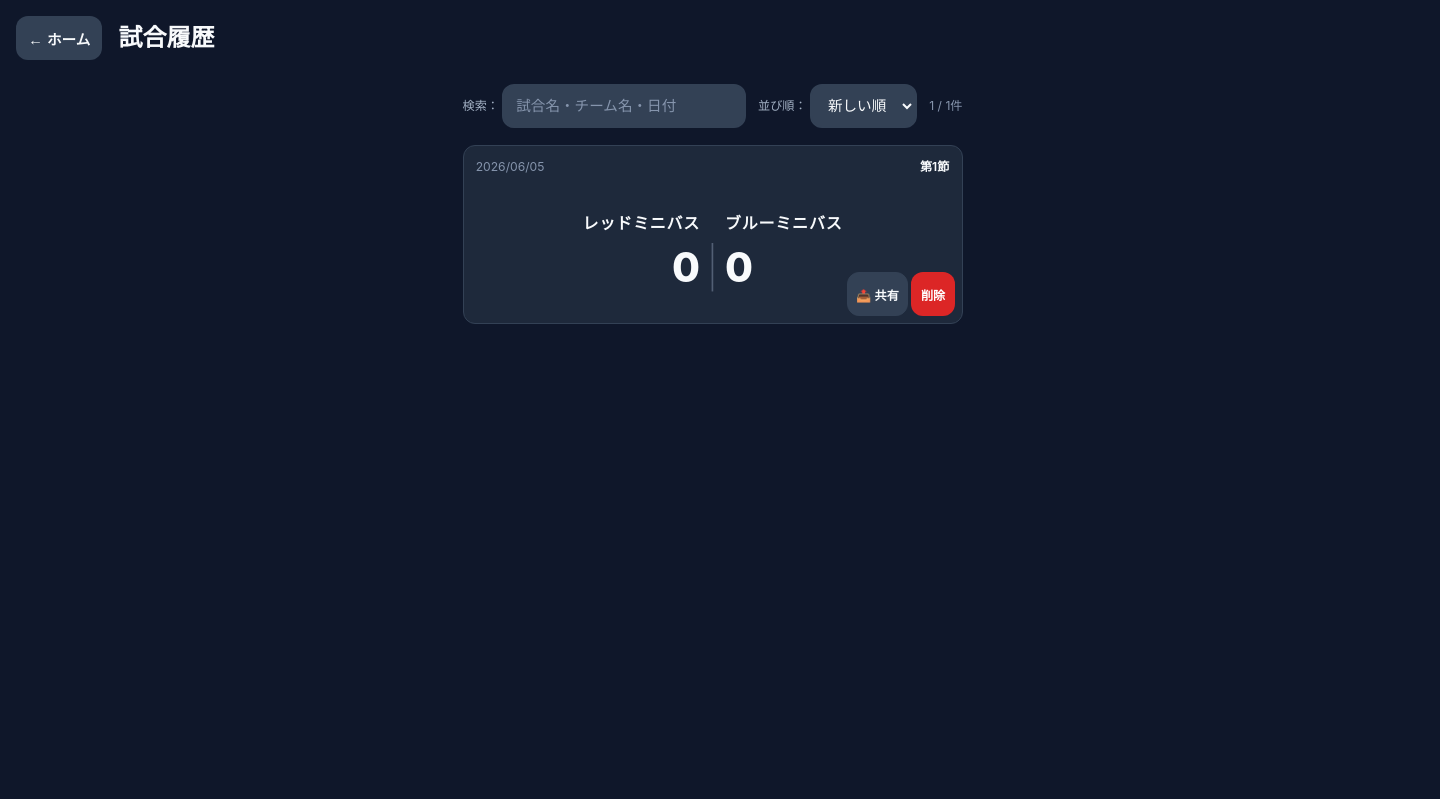
Test: 履歴のスコアシートタブ › 様式を閉じたあとの戻るは、詳細ごと閉じて一覧へ
What coordinates should you click on to do the following:
click the button "2026/06/05 第1節 レッドミニバス 0 | ブルーミニバス 0"
I would click on:
 (510, 166)
Its box is [476, 158, 949, 311].
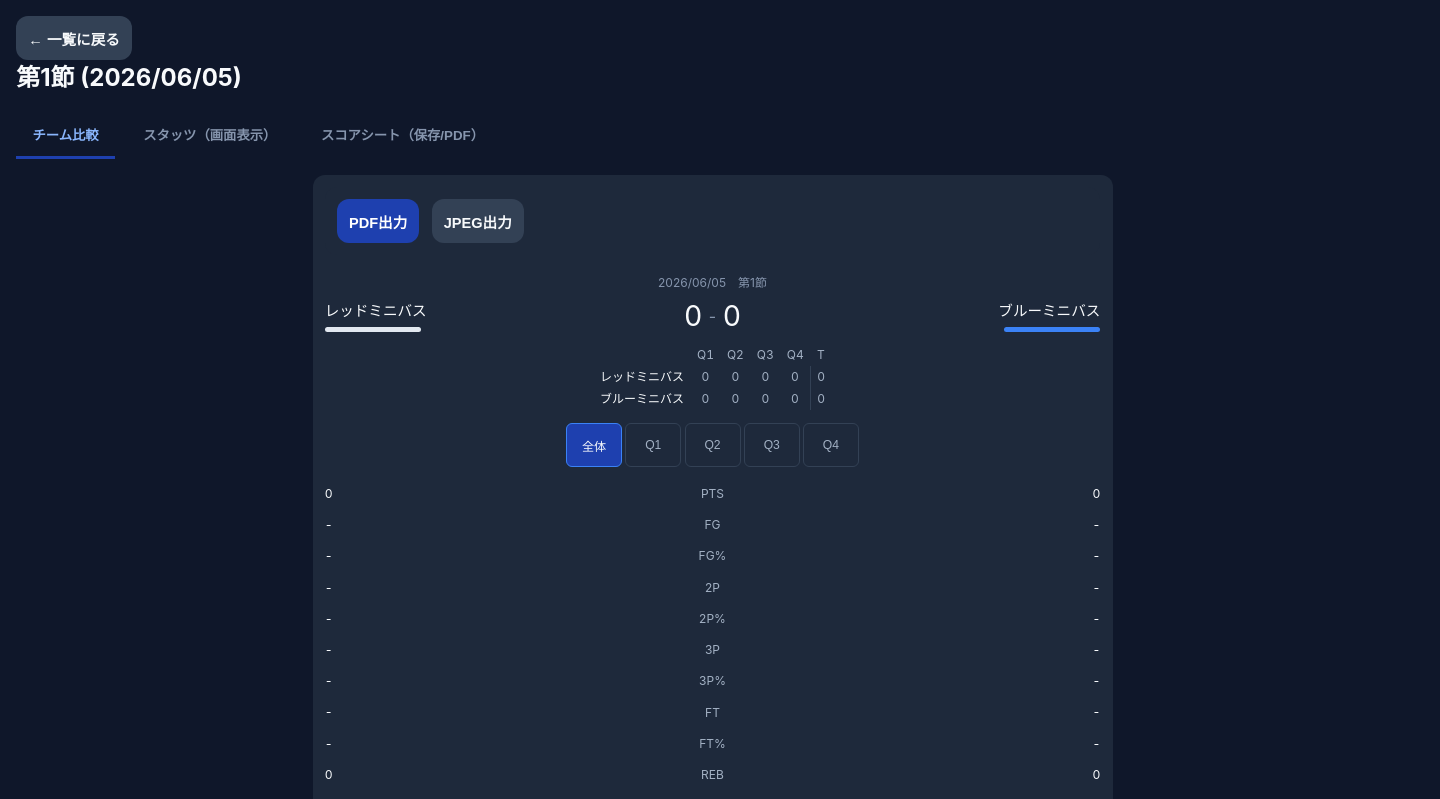
What coordinates should you click on to do the following:
click the button "スコアシート（保存/PDF）"
I would click on:
 (403, 136)
Its box is [305, 112, 500, 159].
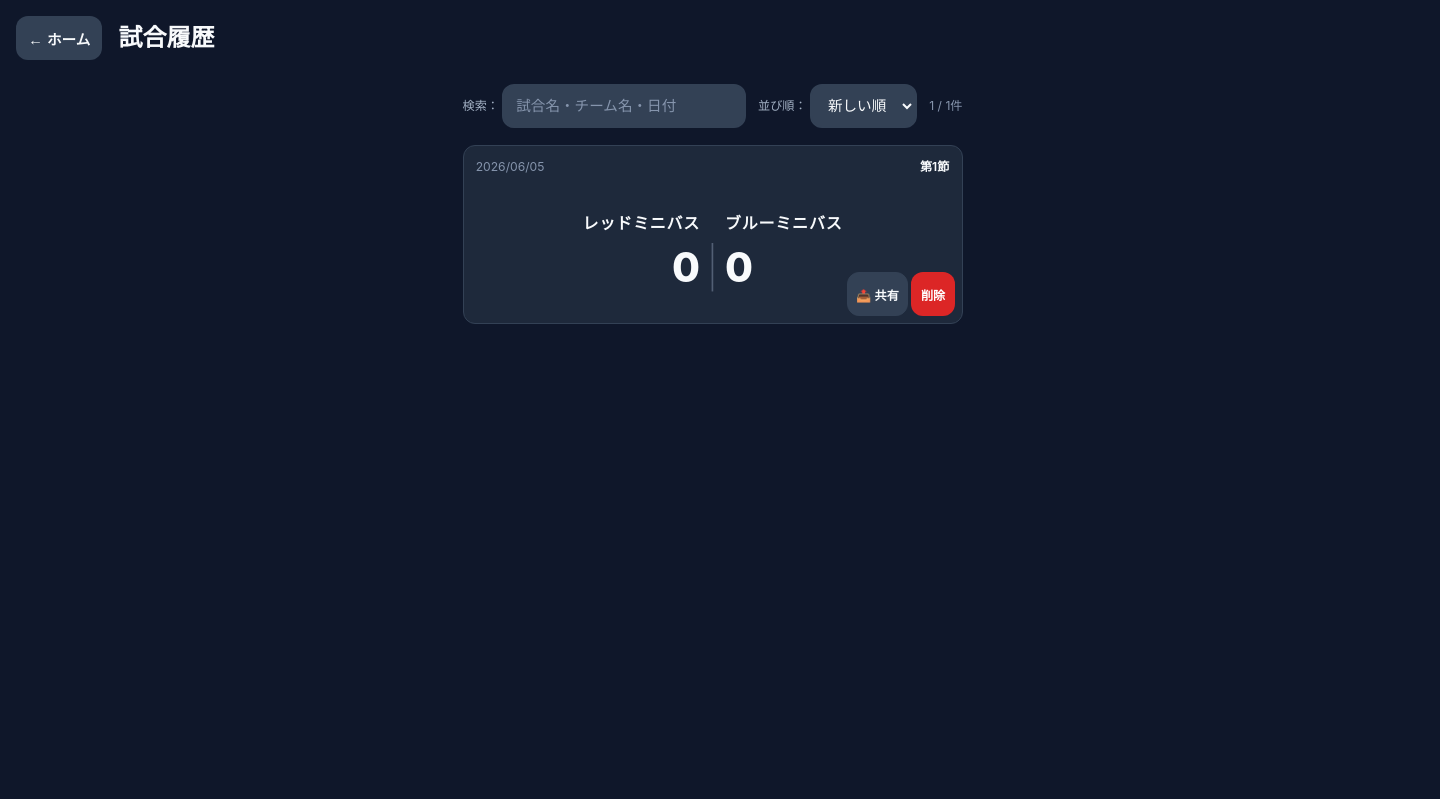
Check: the button "← 一覧に戻る" is gone
